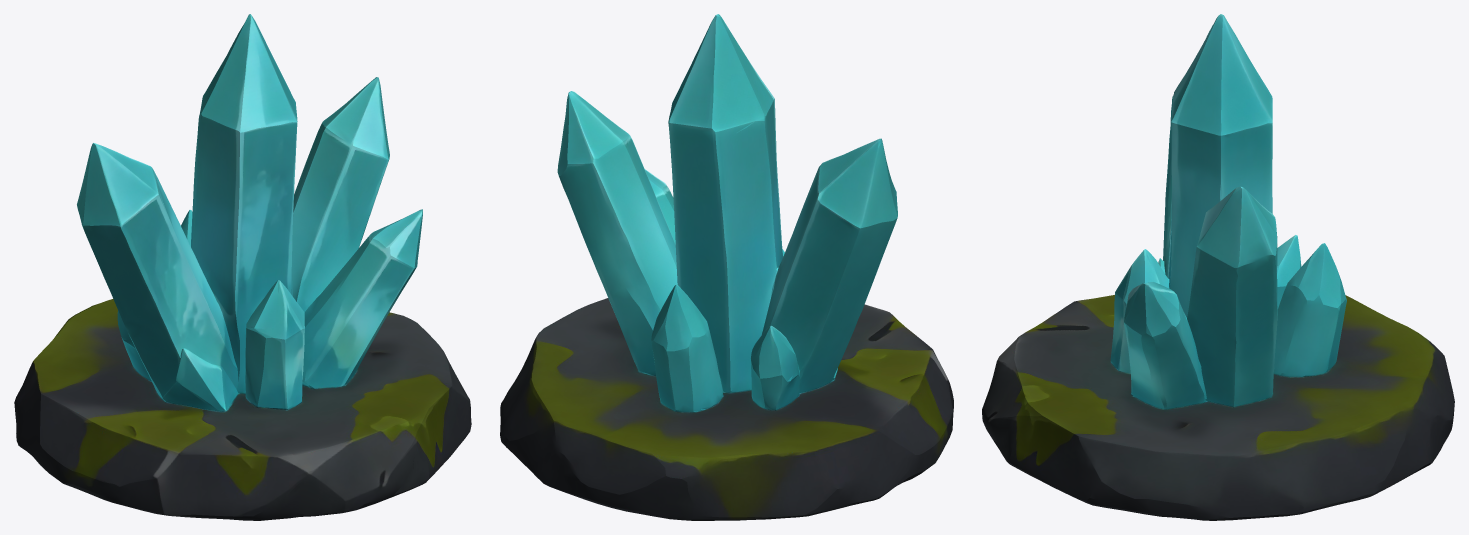
The picture shows the model from 3 angles, left to right: view 1: azimuth 30°, elevation 25°; view 2: azimuth 150°, elevation 25°; view 3: azimuth 270°, elevation 25°; orthographic projection.
Visible parts, largest first — view 1: Mesh; view 2: Mesh; view 3: Mesh.
Boxes of the visible parts, x1,y1,x2,y2 form: Mesh: [14, 14, 471, 520]; Mesh: [500, 14, 953, 520]; Mesh: [982, 14, 1454, 520].
Bounding box in the file's own units: 1.84 × 1.84 × 1.89.
1 material, 1 textured.
